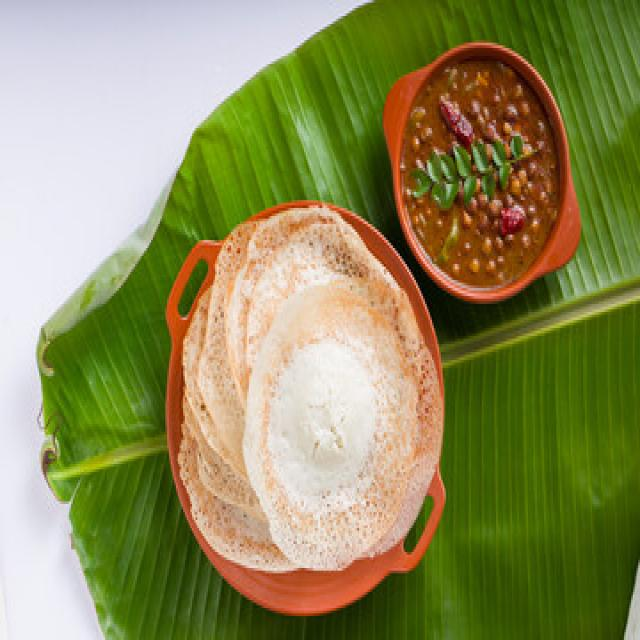AAPAM: (178, 203, 443, 570)
VEGGIES: (400, 54, 560, 284)
